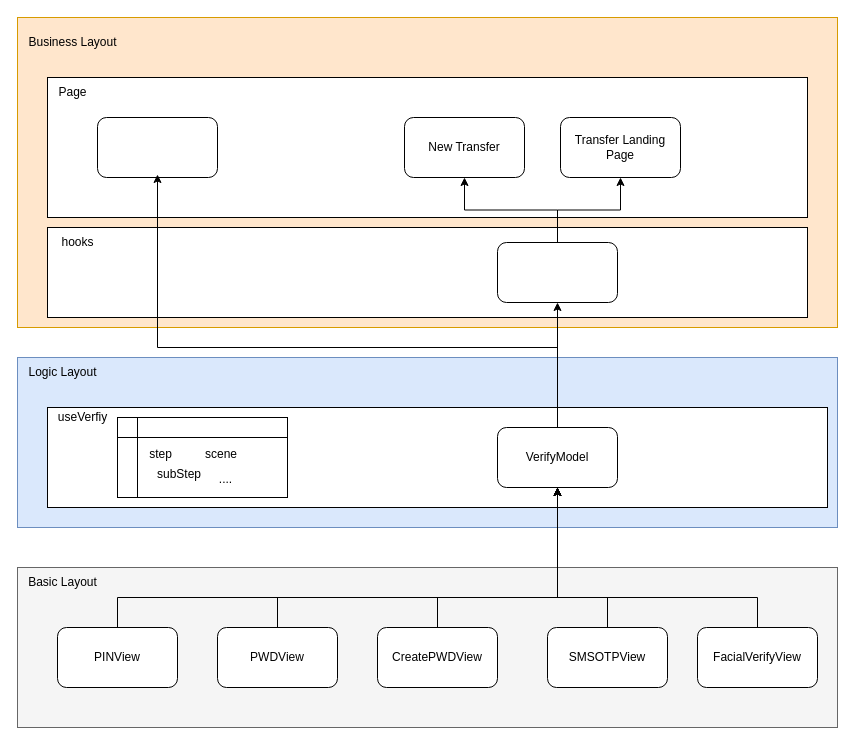
Some shapes in this 855 by 745 pixel diagram are drawn without their labels. Here are the shapes that lost their labels. From the top down, the centre of each, then its label:
At point (157, 147): "Transfer Confirm".
At point (557, 272): "usePayeeCheck".
